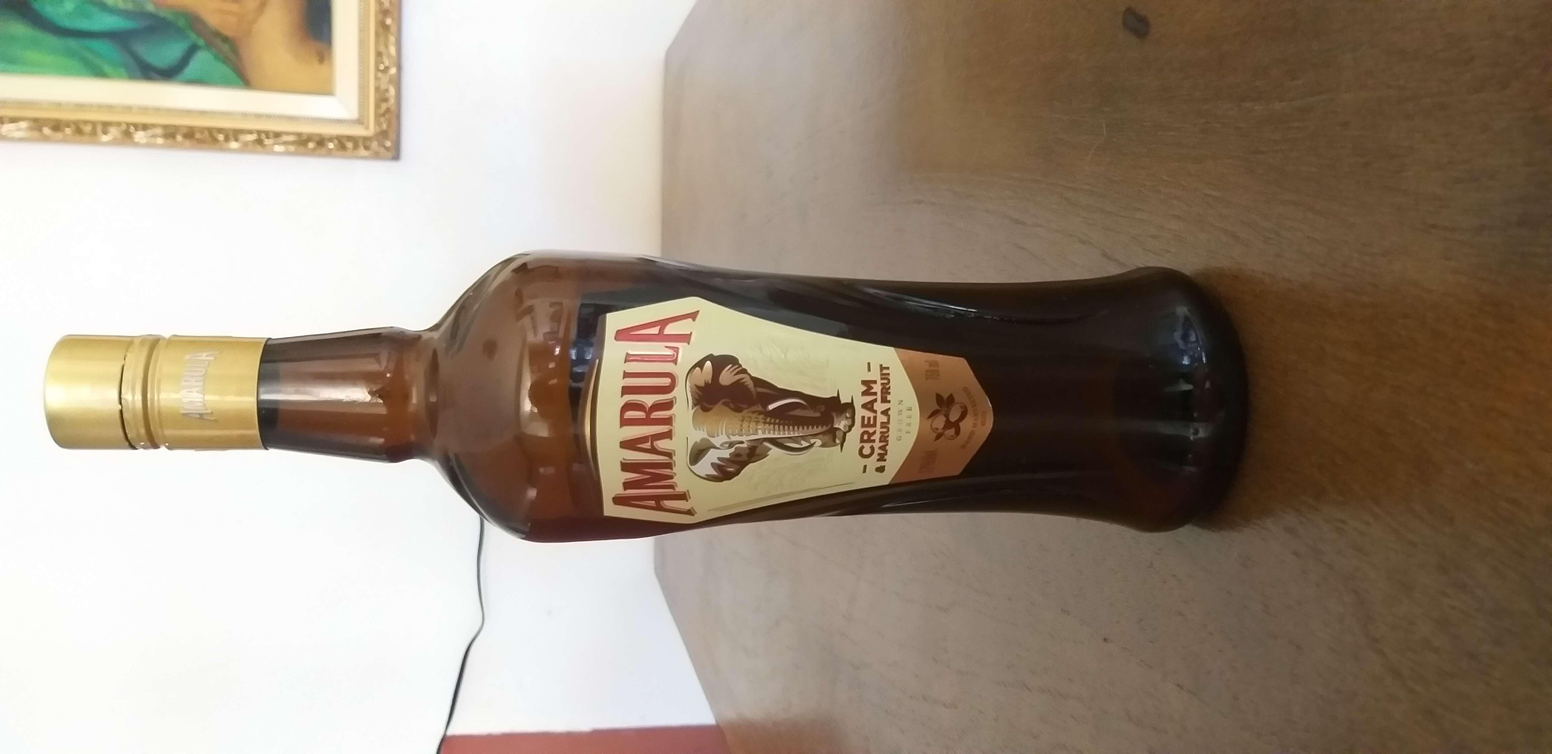bottle-glass: (37, 248, 1252, 544)
